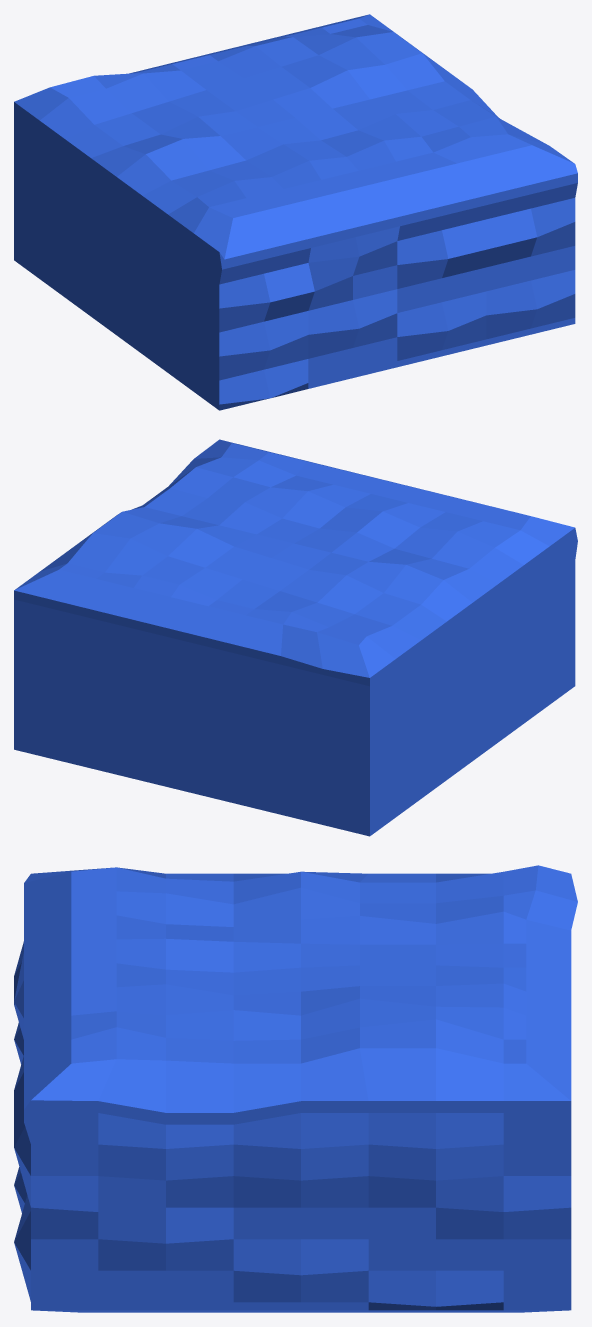
File: water.fbx
3 views of the same model, one above another, from view 1: azimuth 30°, elevation 25°; view 2: azimuth 150°, elevation 25°; view 3: azimuth 270°, elevation 25° (orthographic). The views are drawn at different scales.
Parts seen in each view (by area): view 1: Cube; view 2: Cube; view 3: Cube.
Part boxes in pixels (x1=…): Cube: x1=14, y1=14, x2=577, y2=410; Cube: x1=14, y1=439, x2=577, y2=836; Cube: x1=14, y1=865, x2=577, y2=1312.
Bounding box in the file's own units: 204 × 111 × 209.
